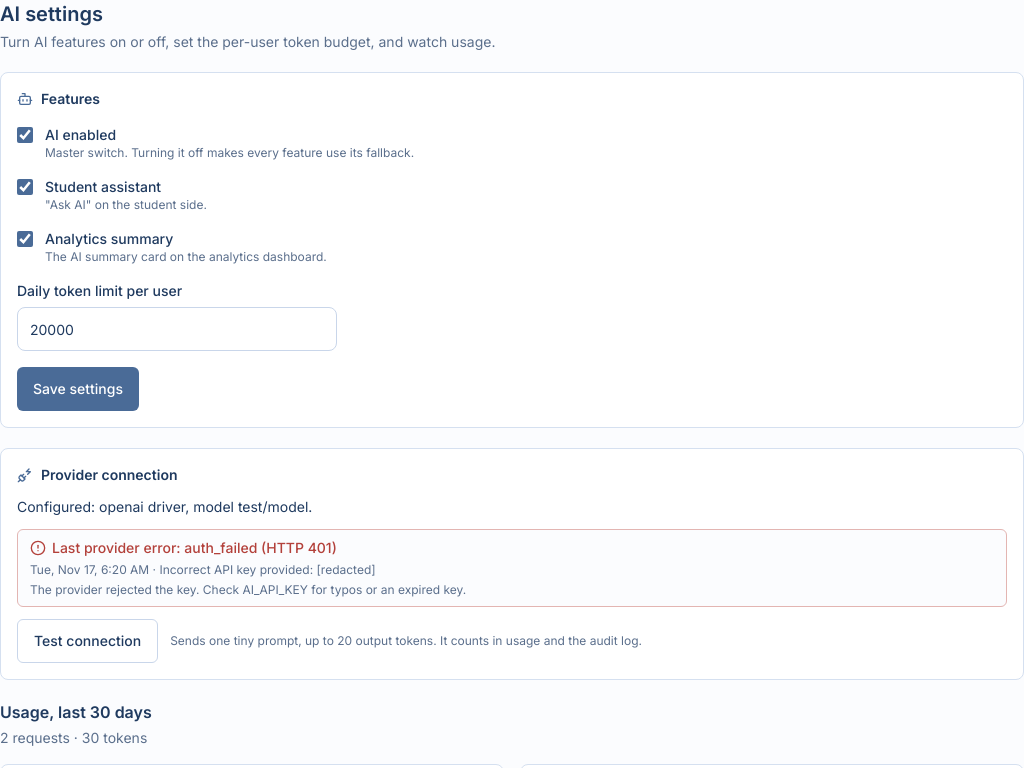
Test: AI settings connection status › explains a not-configured test result
Click the button "Test connection". click: click(88, 641)
box: [17,619,158,663]
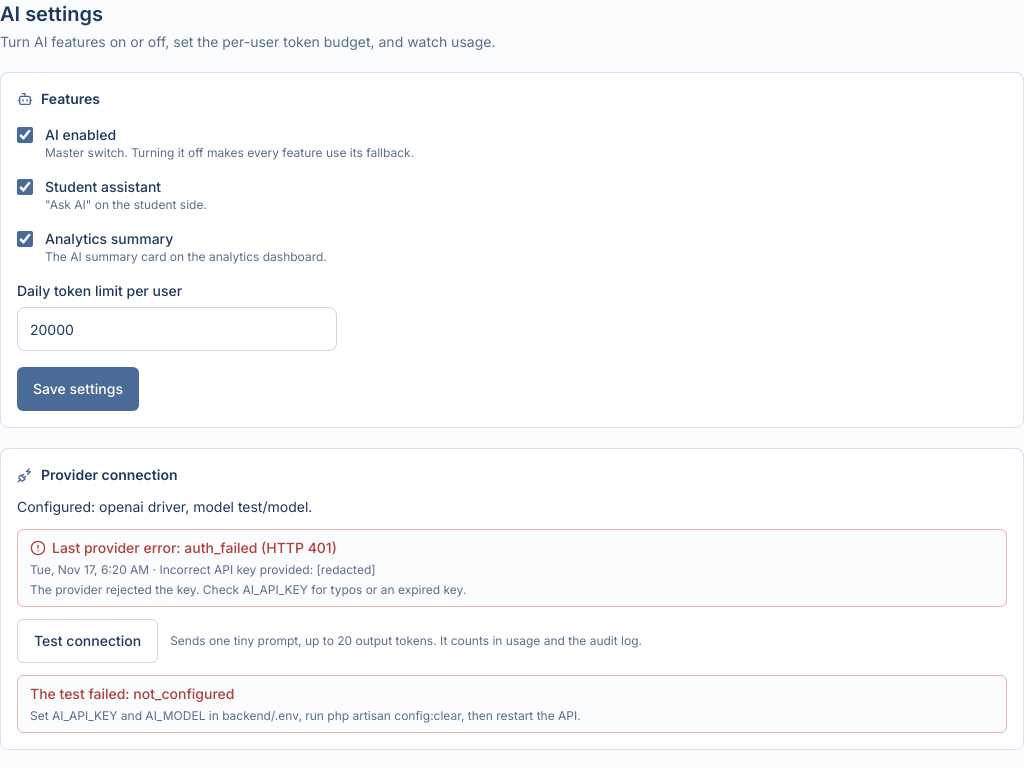
Expected: the text "The test failed: not_configured" is shown, [30,685,234,702]
Expected: the text "php artisan config:clear" is shown, [30,708,581,723]
